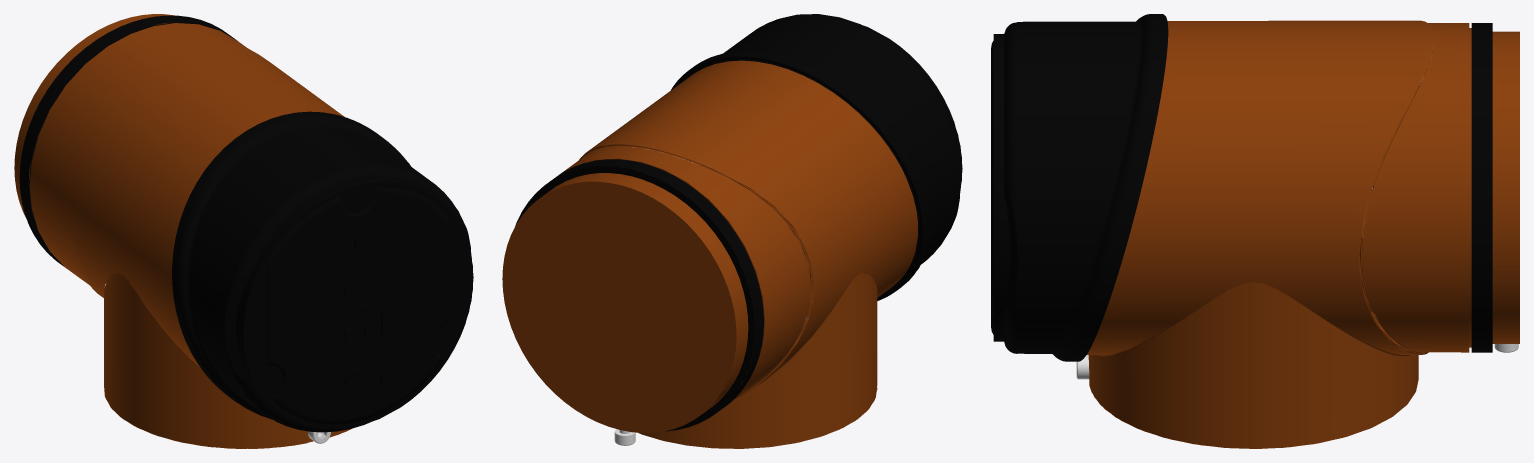
File: wrist1_Link.DAE
3 renders of one model, left to right at view 1: azimuth 30°, elevation 25°; view 2: azimuth 150°, elevation 25°; view 3: azimuth 270°, elevation 25°, orthographic. The views are drawn at different scales.
Visible parts, largest first — view 1: NONE-DC_Shell_ncl1_3, NONE-DC_Shell, NONE-DC_Shell_ncl1_2, NONE-DC_Shell_ncl1_1; view 2: NONE-DC_Shell, NONE-DC_Shell_ncl1_1, NONE-DC_Shell_ncl1_3, NONE-DC_Shell_ncl1_2; view 3: NONE-DC_Shell, NONE-DC_Shell_ncl1_3, NONE-DC_Shell_ncl1_1, NONE-DC_Shell_ncl1_2.
Part boxes in pixels (x1,y1,x2,y2): NONE-DC_Shell_ncl1_3: (172,111,473,432); NONE-DC_Shell: (29,23,351,448); NONE-DC_Shell_ncl1_2: (19,15,238,275); NONE-DC_Shell_ncl1_1: (14,14,174,218); NONE-DC_Shell: (559,60,917,448); NONE-DC_Shell_ncl1_1: (502,173,748,432); NONE-DC_Shell_ncl1_3: (671,14,962,300); NONE-DC_Shell_ncl1_2: (515,159,763,431); NONE-DC_Shell: (1087,20,1471,448); NONE-DC_Shell_ncl1_3: (991,14,1168,361); NONE-DC_Shell_ncl1_1: (1492,31,1519,343); NONE-DC_Shell_ncl1_2: (1471,23,1492,352).
Bounding box in the file's own units: 0.079 × 0.1202 × 0.0875.
